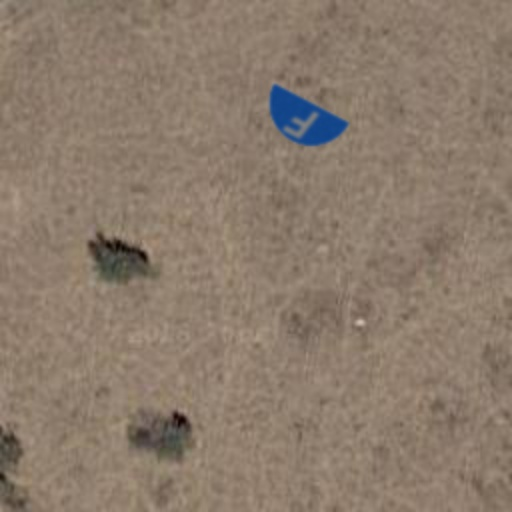semicircle: (244, 64, 360, 180)
